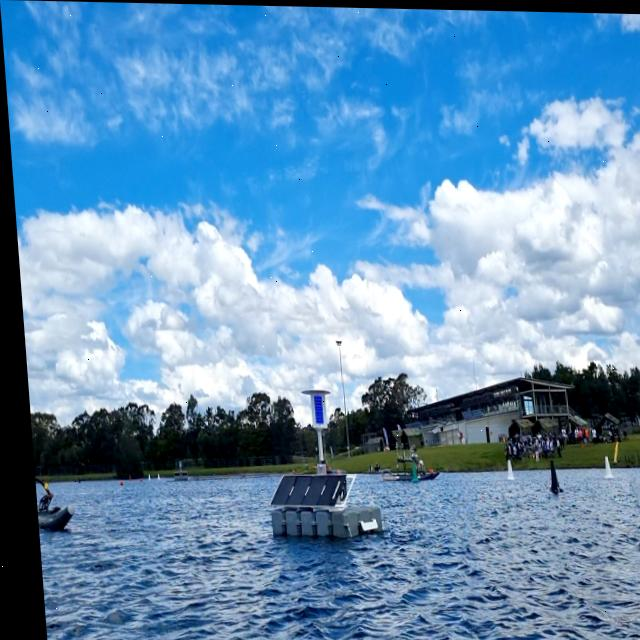led: (305, 392, 320, 426)
